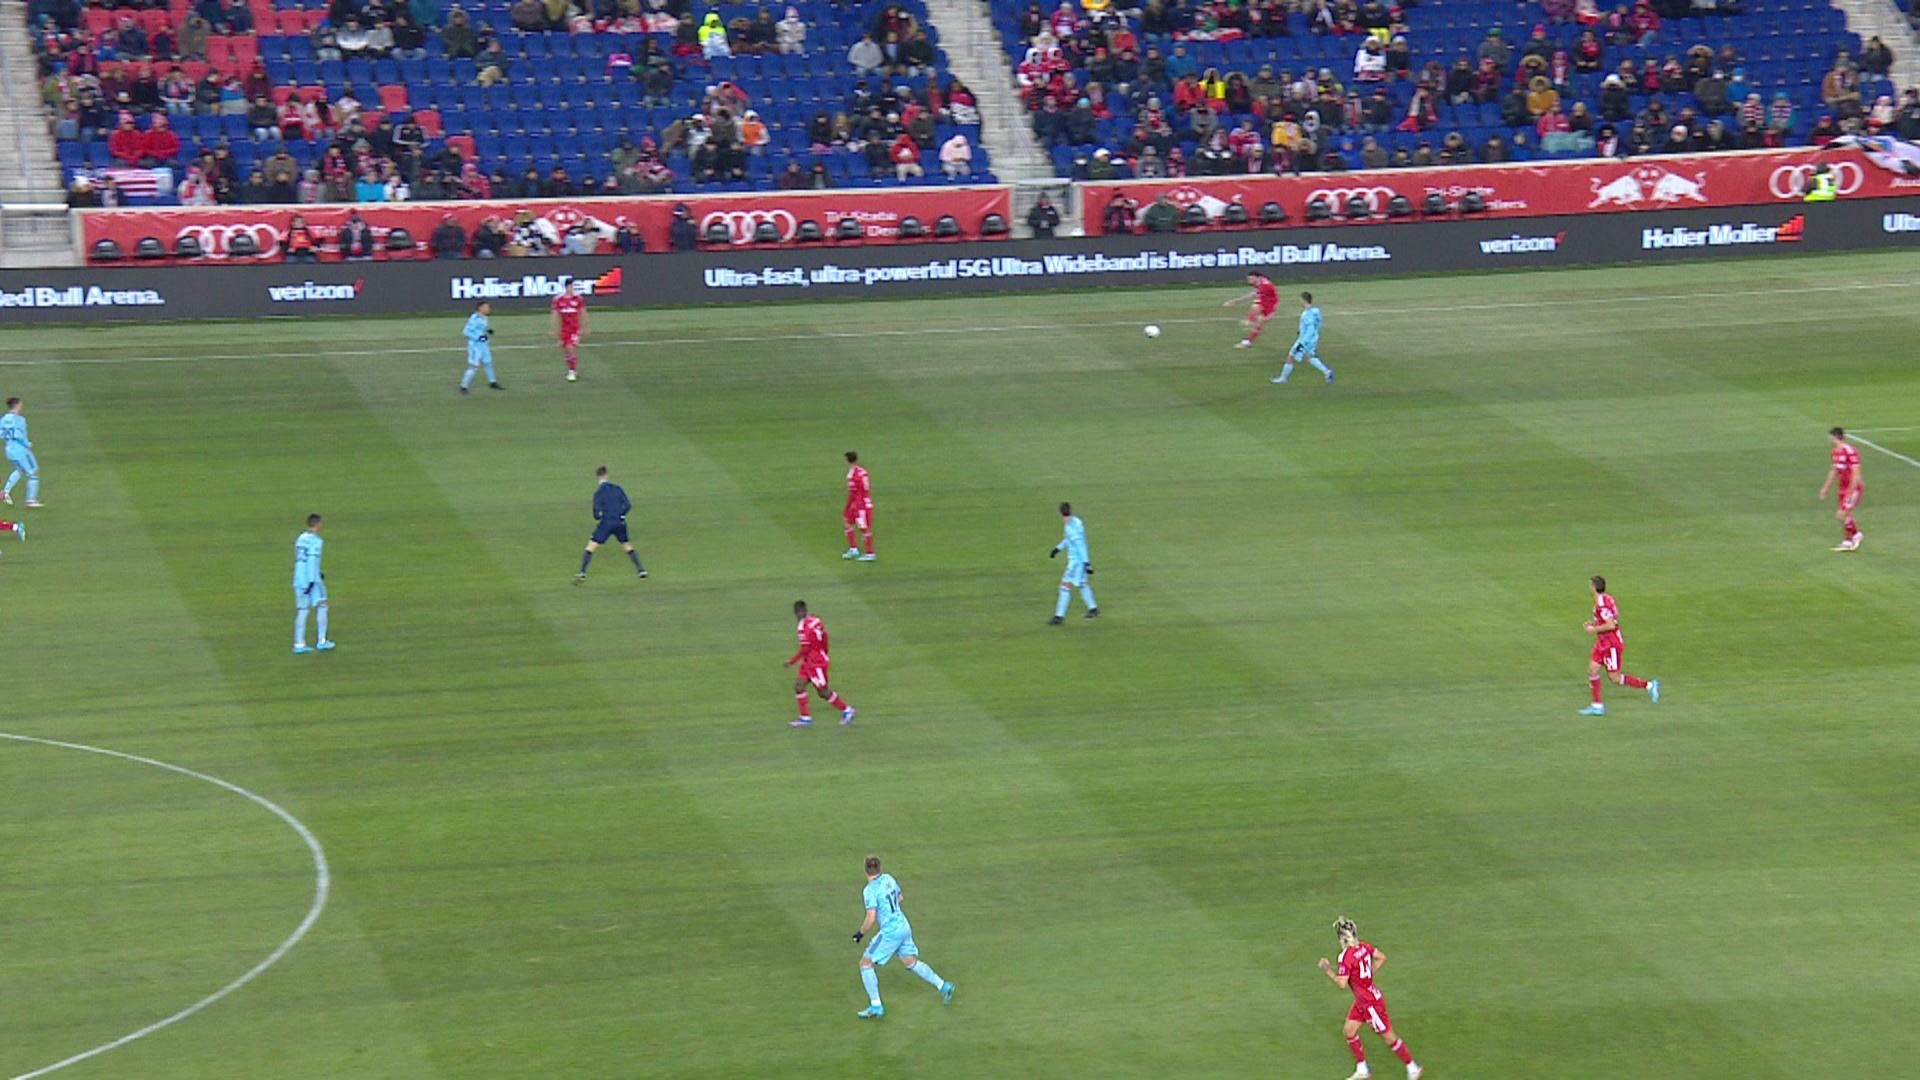football: (1143, 326, 1160, 339)
